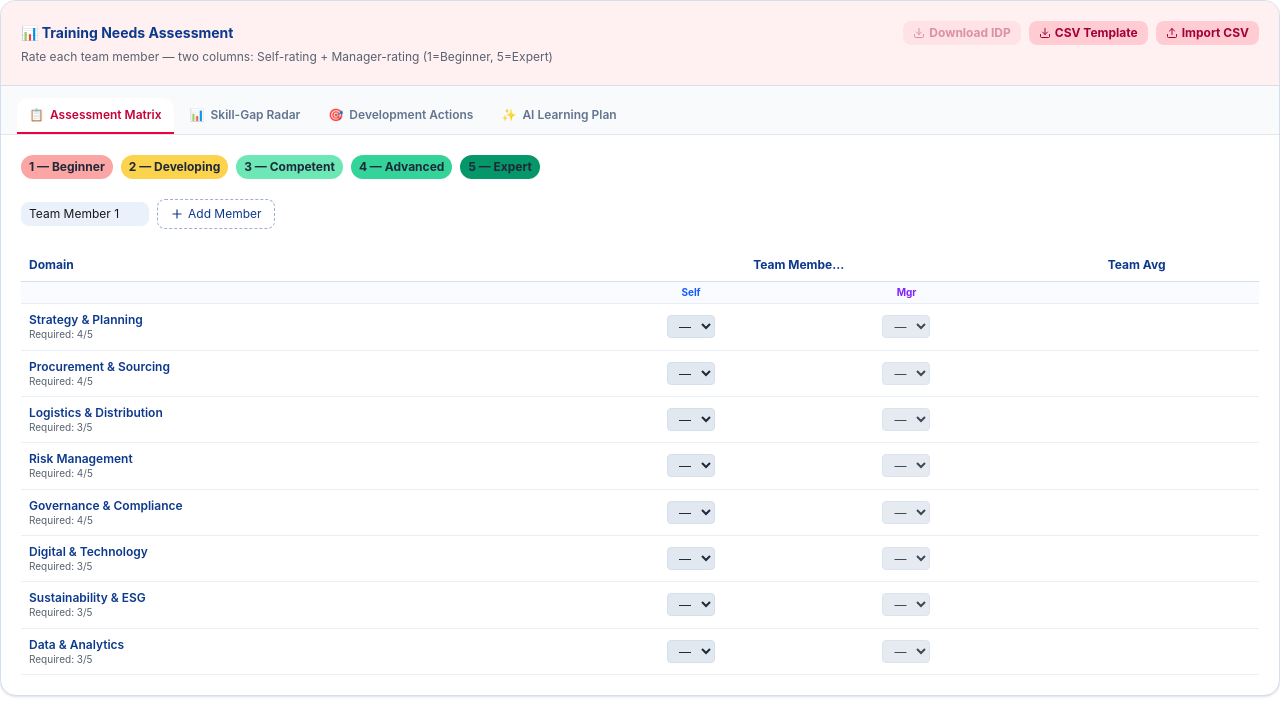
Test: TrainingNeedsAssessment — Generate button › shows sign-in prompt when not authenticated
Click the tab "✨ AI Learning Plan".
click(559, 116)  # box [489,98,629,134]
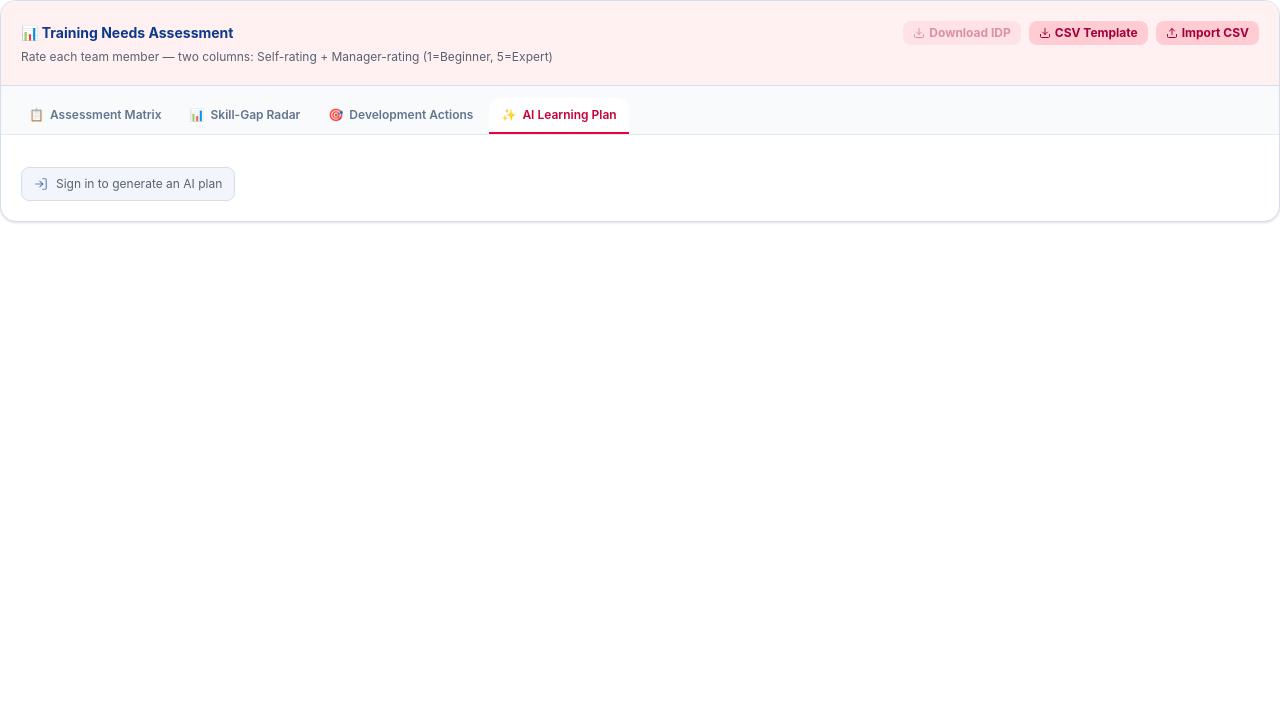
Now the text "Sign in to generate an AI plan" is shown, box [56,176,222,192]
